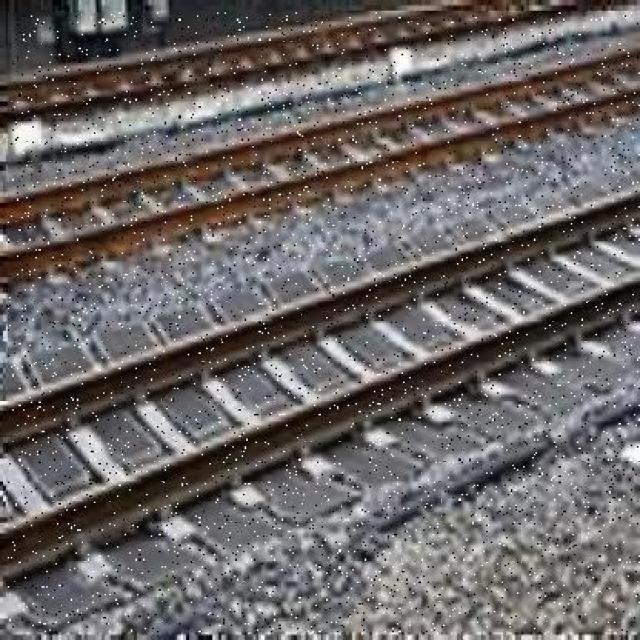rail: (1, 172, 640, 626), (1, 39, 640, 296)
